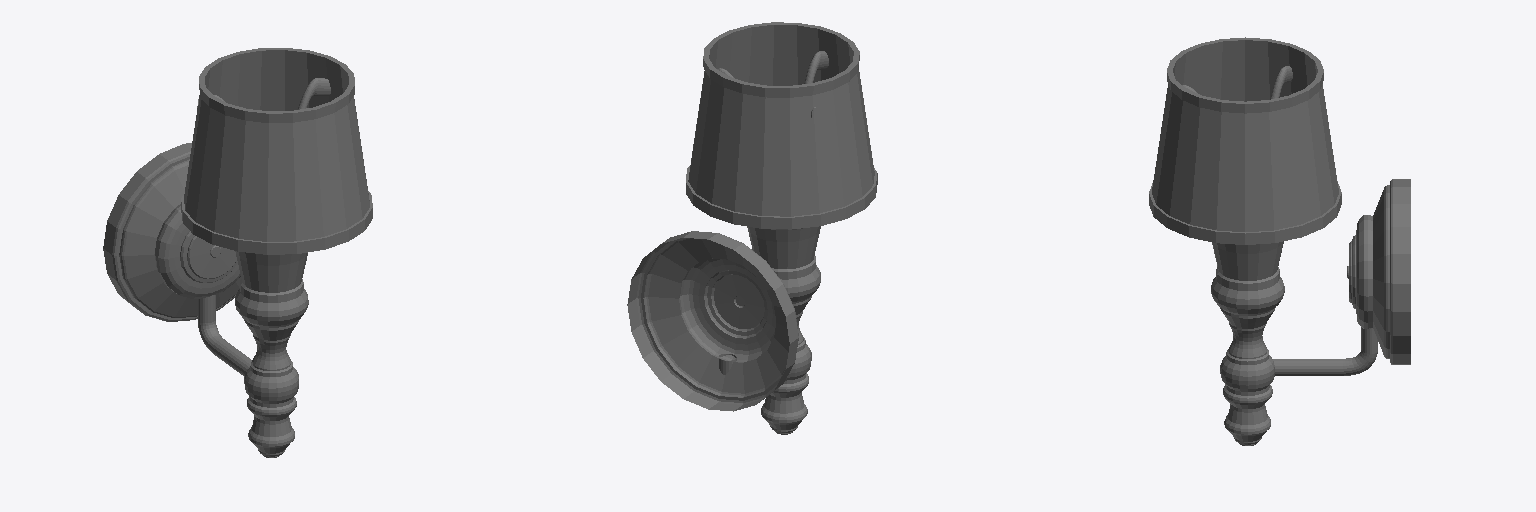
File: lamp.obj
3 renders of one model, left to right at view 1: azimuth 30°, elevation 25°; view 2: azimuth 150°, elevation 25°; view 3: azimuth 270°, elevation 25°, orthographic.
Parts seen in each view (by area): view 1: pCylinder9; view 2: pCylinder9; view 3: pCylinder9.
Boxes of the visible parts, x1=… form: pCylinder9: x1=103, y1=48, x2=372, y2=457; pCylinder9: x1=627, y1=22, x2=877, y2=434; pCylinder9: x1=1149, y1=37, x2=1410, y2=445.
Bounding box in the file's own units: 108 × 220 × 140.